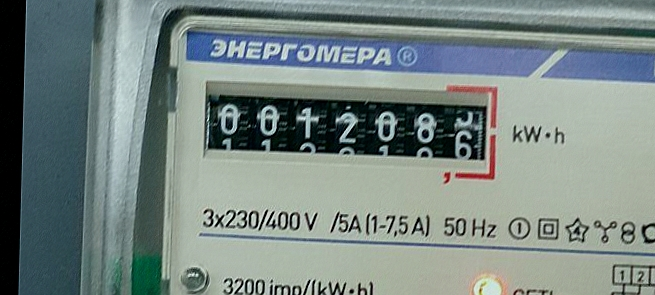0: (372, 106, 398, 141), (255, 99, 279, 136), (217, 98, 238, 135)
1: (296, 102, 314, 139)
2: (333, 108, 360, 143)
6: (450, 124, 474, 159)
8: (411, 108, 435, 144)
screen: (191, 67, 506, 193)
